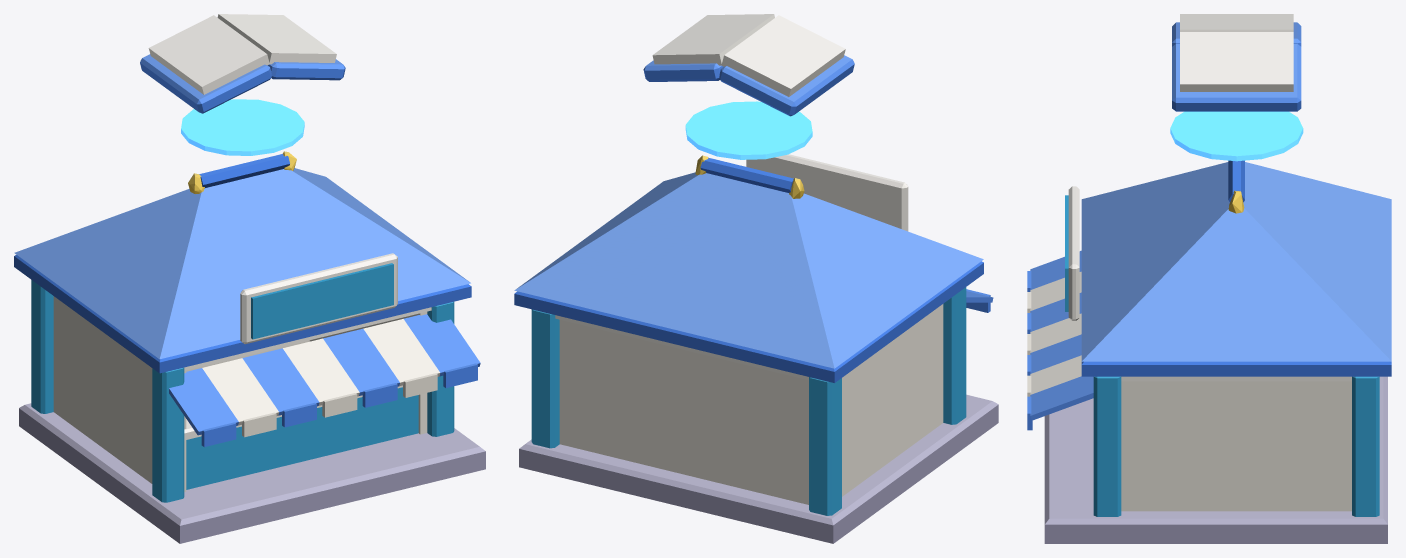
The model's file is IndexHut.glb.
3 views of the same model, side by side, from view 1: azimuth 30°, elevation 25°; view 2: azimuth 150°, elevation 25°; view 3: azimuth 270°, elevation 25° (orthographic). The views are drawn at different scales.
Parts seen in each view (by area): view 1: IndexHut, IndexHut_Glow_acc4; view 2: IndexHut, IndexHut_Glow_acc4; view 3: IndexHut, IndexHut_Glow_acc4.
Part boxes in pixels (x1=…): IndexHut: x1=14, y1=14, x2=485, y2=543; IndexHut_Glow_acc4: x1=181, y1=99, x2=304, y2=155; IndexHut: x1=514, y1=14, x2=998, y2=543; IndexHut_Glow_acc4: x1=685, y1=101, x2=812, y2=159; IndexHut: x1=1027, y1=14, x2=1391, y2=543; IndexHut_Glow_acc4: x1=1170, y1=111, x2=1303, y2=161.
Size of the model in its own units: 20.8 by 25.91 by 19.75.
2 materials, 1 textured.
